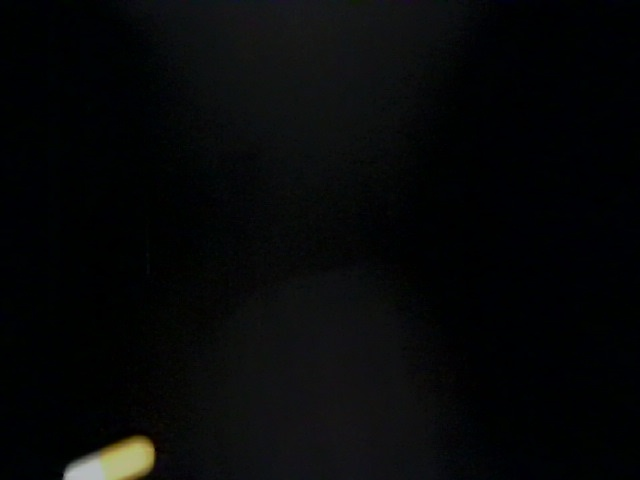YHLJ: (311, 254, 425, 320)
